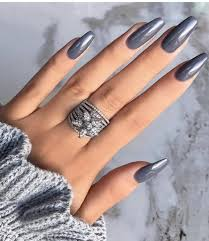nail: (161, 15, 197, 52), (125, 17, 166, 49), (133, 157, 169, 185), (175, 51, 209, 79), (68, 30, 95, 59)
